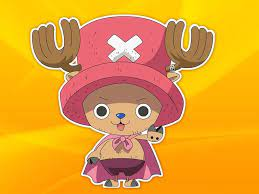chopper: (29, 14, 217, 190)
